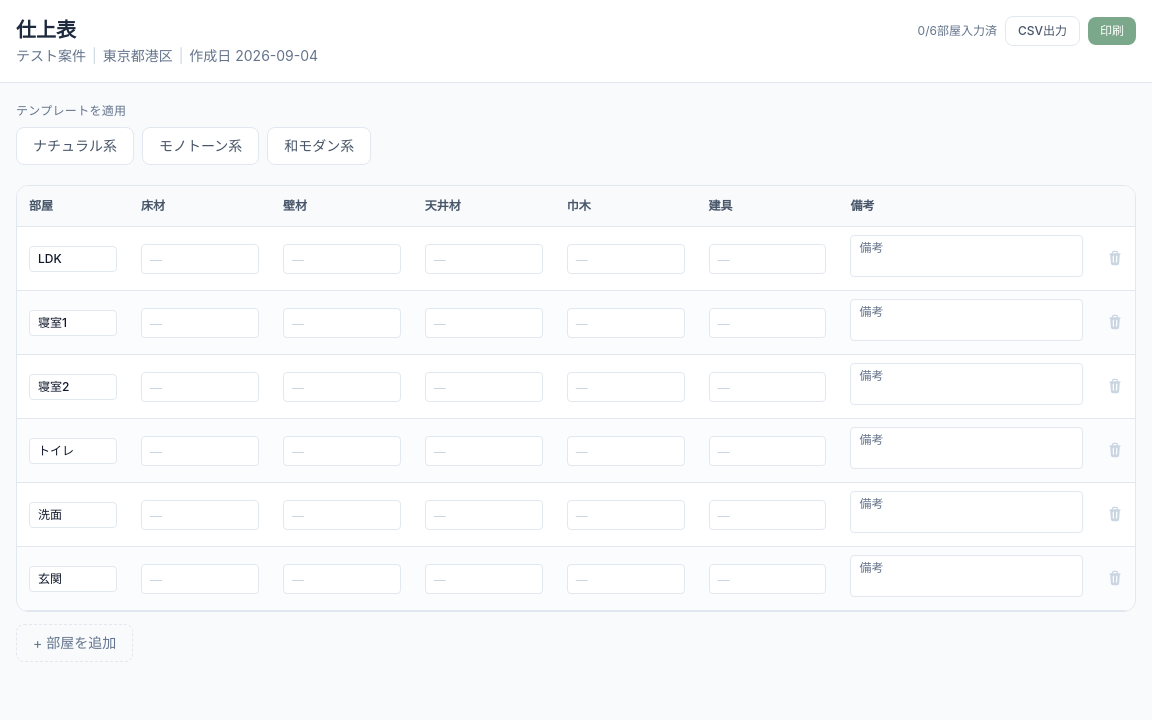
Test: FinishingSchedulePage — テンプレート › モノトーン系テンプレートを適用するとコンクリート研磨が表示される
The width and height of the screenshot is (1152, 720).
Click the button with test id "template-モノトーン系" at (201, 146), box [142, 127, 259, 165]
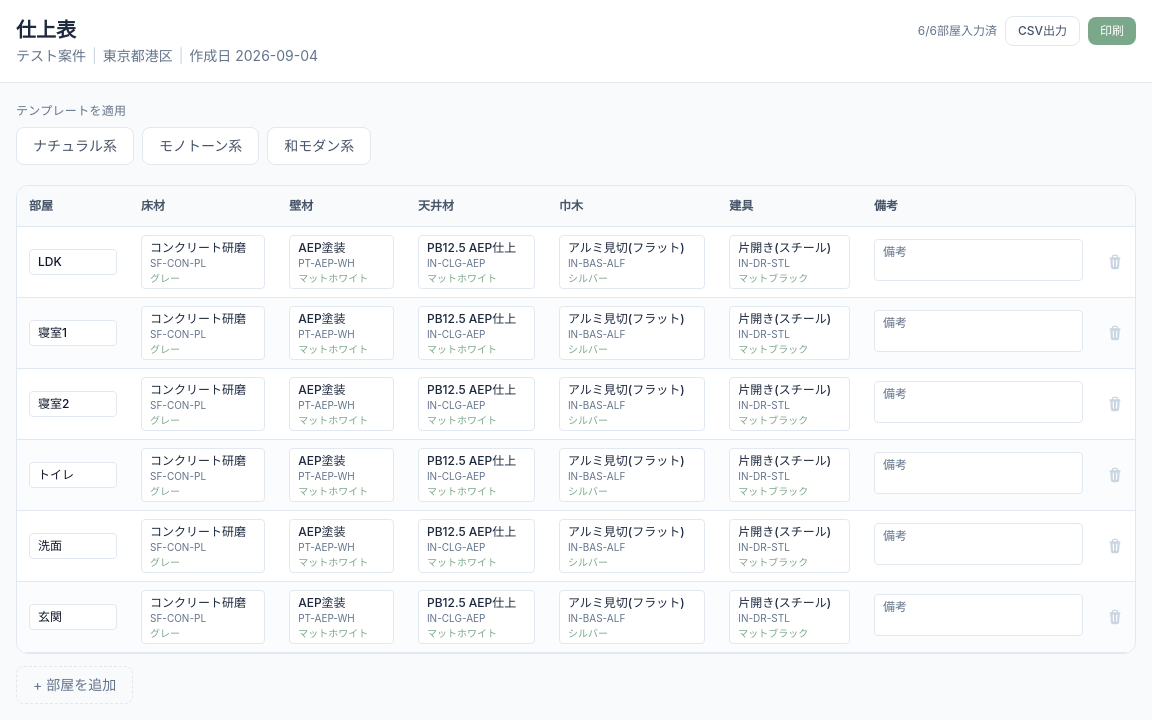
Expected: the 1st text "コンクリート研磨" is shown, [150, 240, 256, 255]
